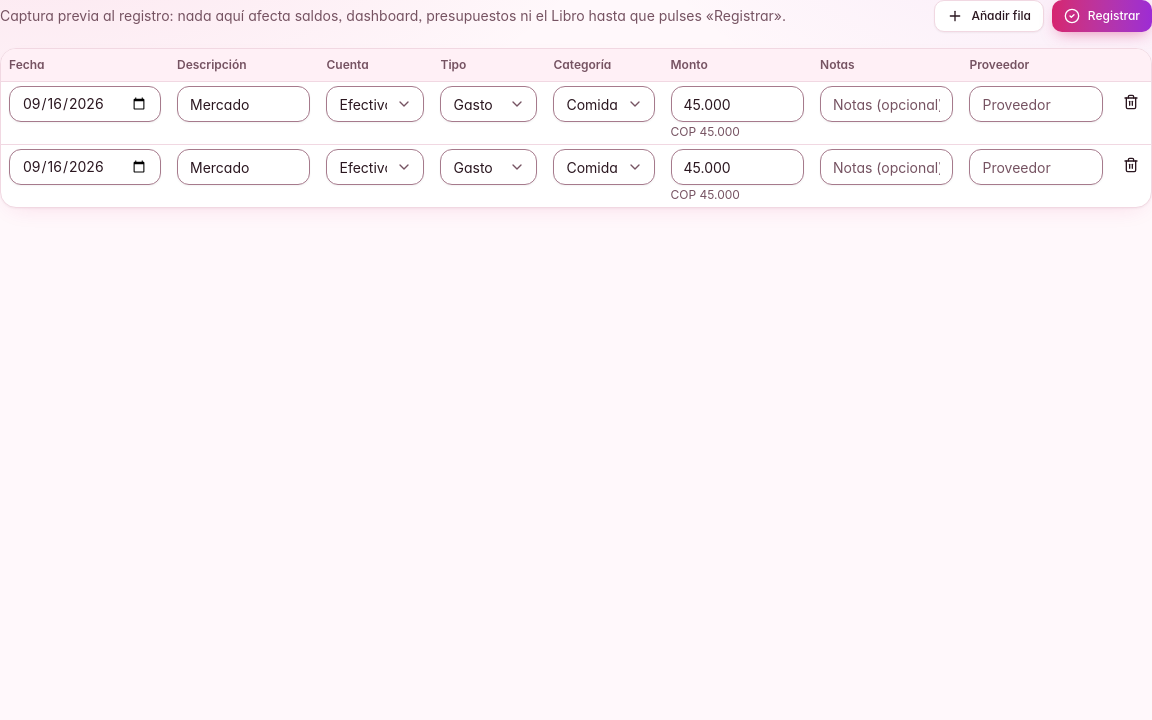
Test: SheetGrid — registro con confirmación › con todas las filas válidas, la confirmación omite la frase de los incompletos
What coordinates should you click on to do the following:
click the button "Registrar"
I would click on:
 (1102, 16)
Its box is [1052,0,1151,32].
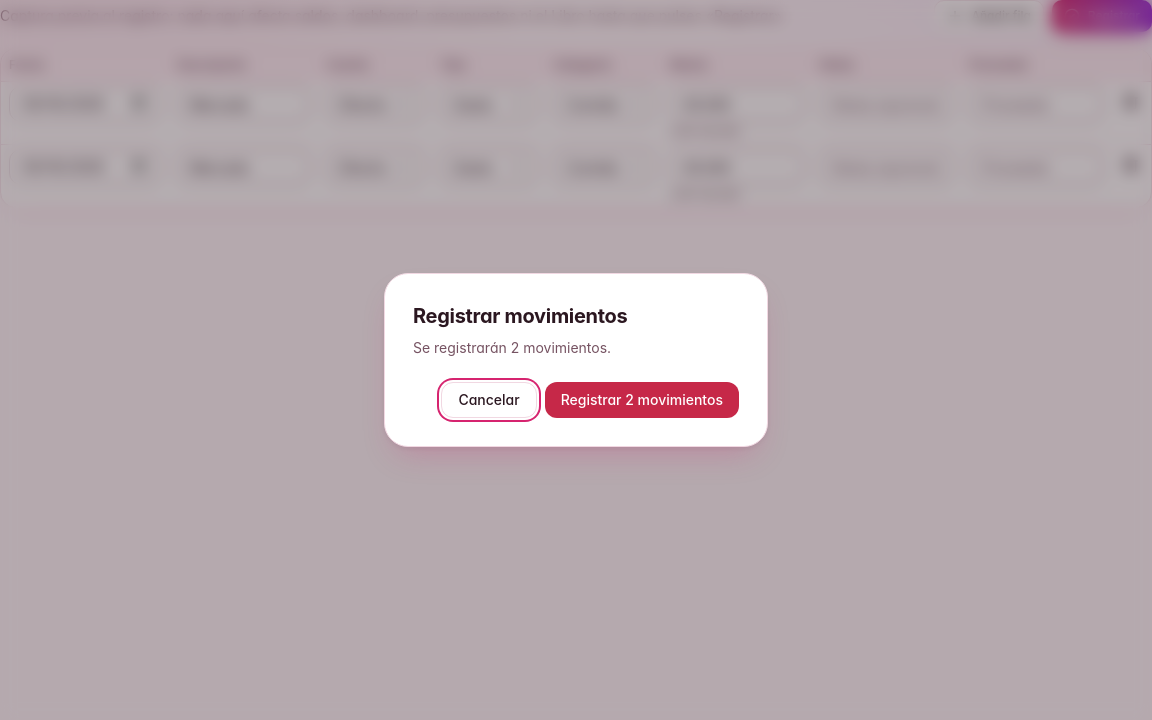
Now the text "Se registrarán 2 movimientos." is shown, box [413,339,611,356]
What coordinates should you click on to do the following:
click the button "Registrar 2 movimientos"
I would click on:
 (642, 400)
Its box is [545,382,739,418].
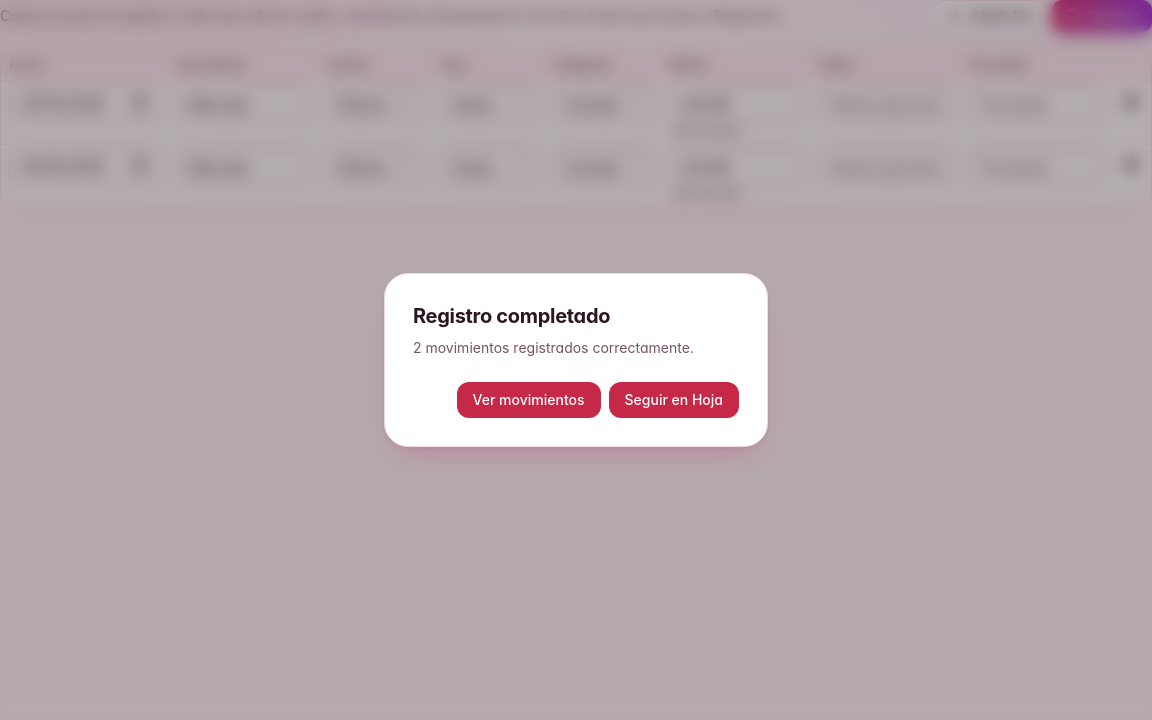
Now the text "2 movimientos registrados correctamente." is shown, box [413,338,739,358]
